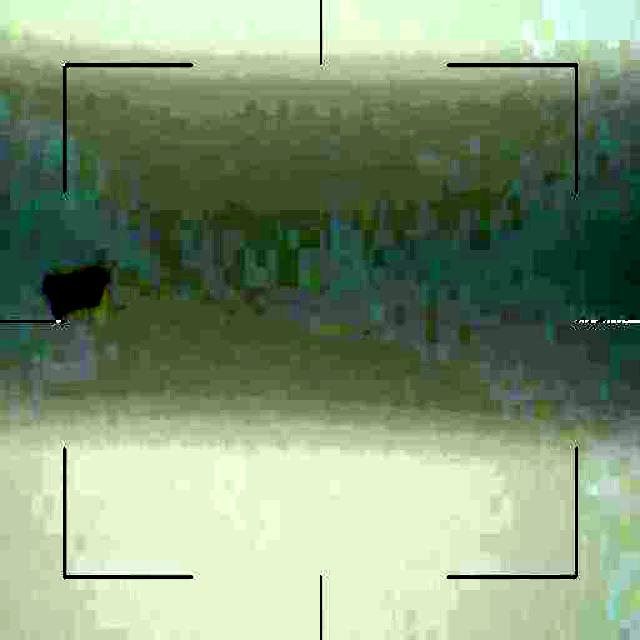bird: (45, 272, 106, 315)
